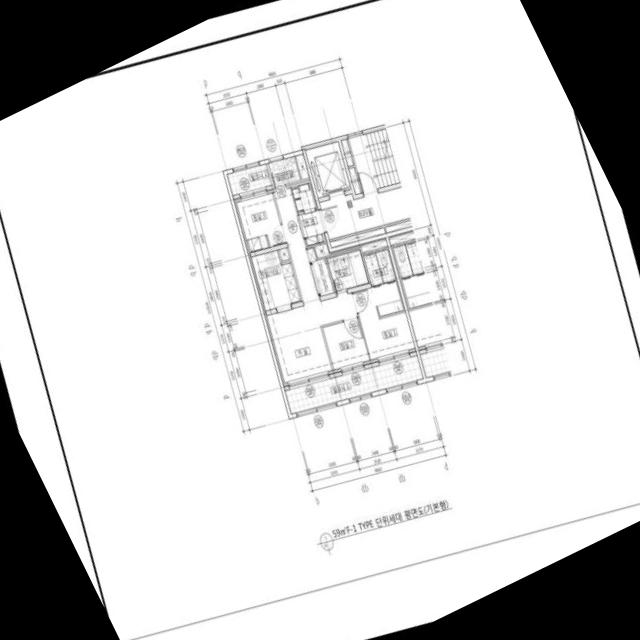background: (0, 0, 640, 640)
space_balconi: (285, 355, 423, 414), (227, 164, 272, 195)
space_bedroom: (353, 287, 416, 362), (234, 189, 285, 253), (322, 318, 370, 372)
space_elevator: (305, 141, 350, 197)
space_elevator_hall: (319, 186, 410, 239)
space_front: (297, 209, 326, 246)
space_kitchen: (249, 250, 301, 311)
space_living_room: (265, 185, 357, 386)
space_other: (330, 227, 385, 247), (291, 179, 317, 212), (312, 258, 334, 296), (360, 238, 387, 252), (348, 167, 361, 194), (295, 154, 309, 179), (341, 139, 353, 166), (385, 220, 412, 232), (314, 243, 330, 258), (279, 247, 289, 260)
space_outdoor_room: (268, 156, 300, 186)
space_staircase: (348, 128, 400, 192)
space_toilet: (364, 249, 403, 316), (327, 249, 368, 291)
